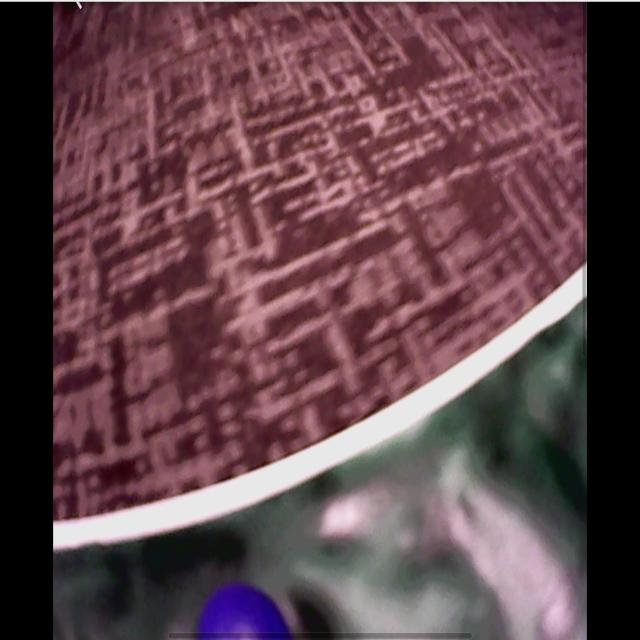ball: (196, 582, 289, 640)
